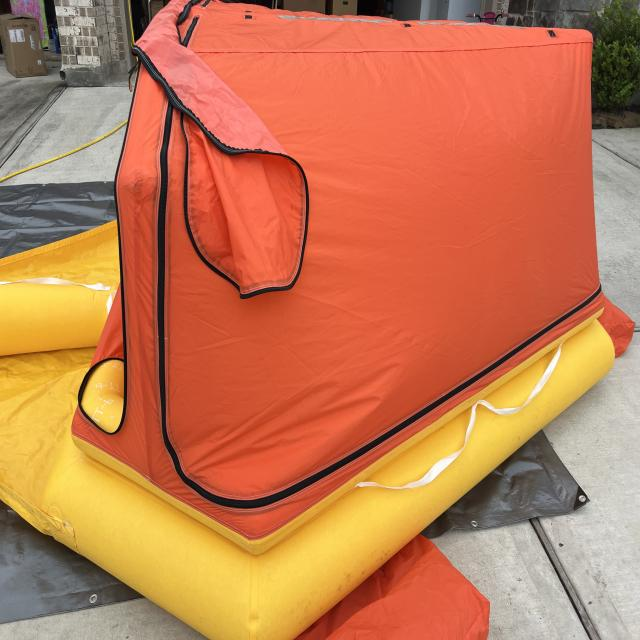Multi-person_life_raft: (0, 1, 634, 639)
